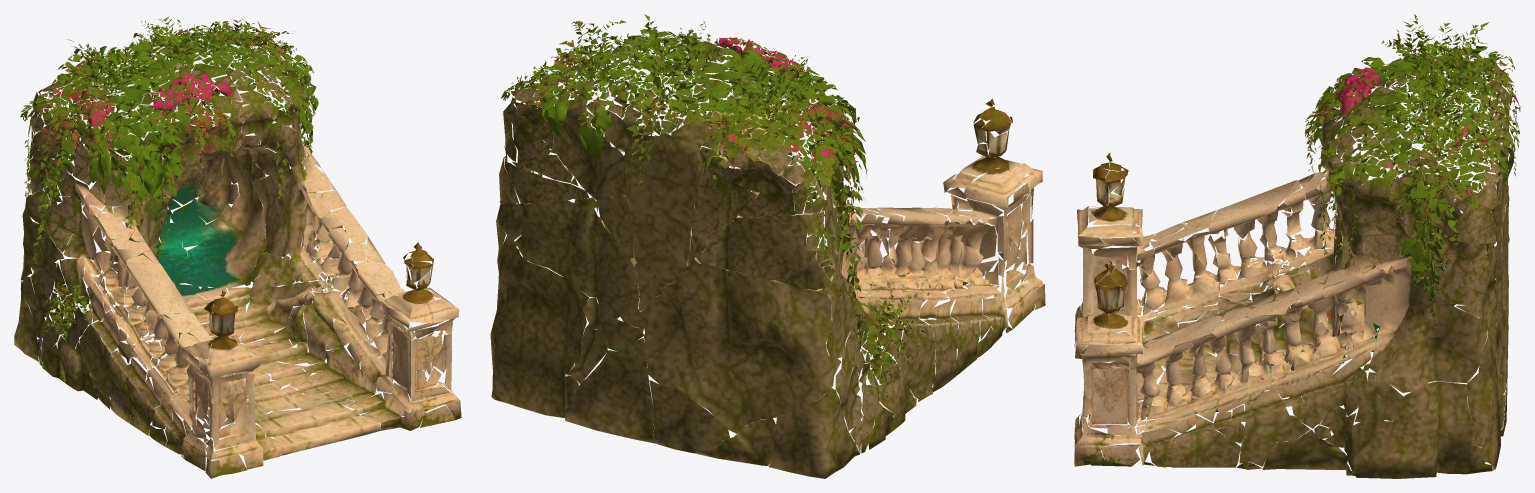
File: cenote.glb
3 renders of one model, left to right at view 1: azimuth 30°, elevation 25°; view 2: azimuth 150°, elevation 25°; view 3: azimuth 270°, elevation 25°, orthographic. The views are drawn at different scales.
Parts seen in each view (by area): view 1: Mesh_0; view 2: Mesh_0; view 3: Mesh_0.
Part boxes in pixels (box(x1,y1,x2,y2)): Mesh_0: box(14, 16, 461, 478); Mesh_0: box(490, 14, 1045, 478); Mesh_0: box(1074, 14, 1520, 478).
Size of the model in its own units: 1.65 by 1.62 by 1.9.
1 material, 1 textured.
